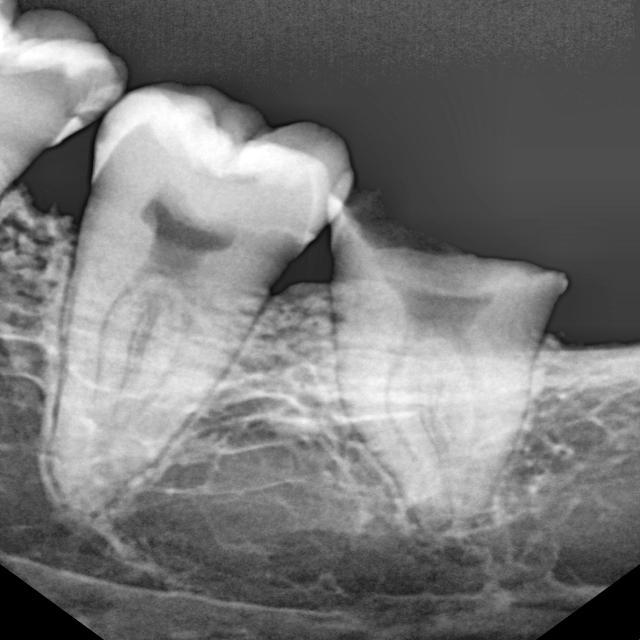Badly Decayed: (302, 138, 607, 562)
Normal: (5, 37, 402, 544)
